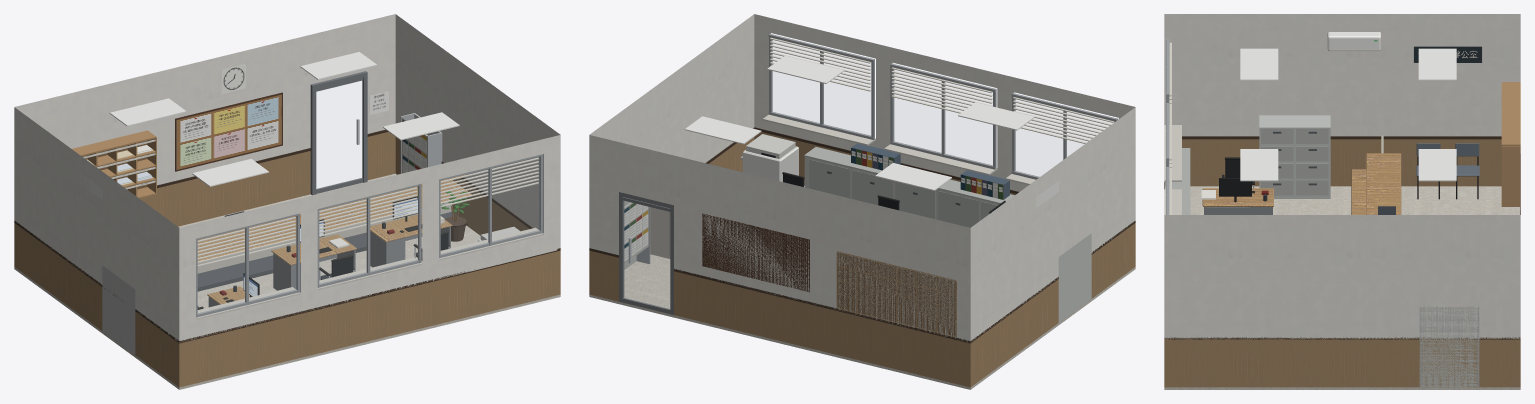
The model's file is linze_office.glb.
The picture shows the model from 3 angles, left to right: view 1: azimuth 30°, elevation 25°; view 2: azimuth 150°, elevation 25°; view 3: azimuth 270°, elevation 25°; orthographic projection. The views are drawn at different scales.
Parts seen in each view (by area): view 1: WALL_N_wall, WALL_S_glass, WALL_S_wall, WALL_W_wall, WALL_S_wain, WALL_E_wall, linze_office_props, WALL_S_frame, WALL_N_wain, WALL_N_print, WALL_W_wain, linze_office_woodparts (+11 smaller); view 2: WALL_N_wall, WALL_W_wall, WALL_N_wain, WALL_S_glass, WALL_E_wall, WALL_S_wall, WALL_S_frame, linze_office_props, WALL_S_cab, WALL_N_pigeonvc, WALL_N_trim, WALL_W_wain (+10 smaller); view 3: WALL_E_wall, WALL_W_wall, WALL_E_wain, linze_office_props, WALL_W_wain, linze_office_floorm, WALL_W_filecab, WALL_E_rack, linze_office_woodparts, WALL_N_pigeonvc, WALL_W_trim, WALL_S_frame (+3 smaller).
Boxes of the visible parts, bbox=[...] form: WALL_N_wall: bbox=[14, 14, 395, 185]; WALL_S_glass: bbox=[198, 157, 539, 313]; WALL_S_wall: bbox=[179, 135, 560, 342]; WALL_W_wall: bbox=[14, 107, 179, 340]; WALL_S_wain: bbox=[179, 250, 560, 387]; WALL_E_wall: bbox=[395, 14, 560, 233]; linze_office_props: bbox=[109, 52, 519, 309]; WALL_S_frame: bbox=[196, 154, 543, 319]; WALL_N_wain: bbox=[140, 132, 395, 226]; WALL_N_print: bbox=[83, 63, 388, 189]; WALL_W_wain: bbox=[14, 223, 179, 386]; linze_office_woodparts: bbox=[197, 174, 471, 304]; WALL_N_wall: bbox=[589, 135, 970, 341]; WALL_W_wall: bbox=[970, 107, 1135, 340]; WALL_N_wain: bbox=[589, 250, 970, 387]; WALL_S_glass: bbox=[772, 40, 1111, 176]; WALL_E_wall: bbox=[589, 14, 754, 162]; WALL_S_wall: bbox=[754, 14, 1135, 191]; WALL_S_frame: bbox=[762, 33, 1118, 185]; linze_office_props: bbox=[650, 56, 1034, 258]; WALL_S_cab: bbox=[804, 143, 1014, 227]; WALL_N_pigeonvc: bbox=[836, 251, 956, 337]; WALL_N_trim: bbox=[589, 213, 970, 343]; WALL_W_wain: bbox=[970, 223, 1135, 386]; WALL_E_wall: bbox=[1164, 215, 1520, 338]; WALL_W_wall: bbox=[1164, 14, 1520, 136]; WALL_E_wain: bbox=[1164, 338, 1520, 387]; linze_office_props: bbox=[1201, 48, 1479, 214]; WALL_W_wain: bbox=[1165, 139, 1501, 186]; linze_office_floorm: bbox=[1164, 186, 1520, 389]; WALL_W_filecab: bbox=[1259, 115, 1330, 198]; WALL_E_rack: bbox=[1419, 306, 1479, 387]; linze_office_woodparts: bbox=[1202, 153, 1401, 214]; WALL_N_pigeonvc: bbox=[1501, 82, 1520, 206]; WALL_W_trim: bbox=[1182, 32, 1501, 139]; WALL_S_frame: bbox=[1164, 39, 1181, 214].
Bounding box in the file's own units: 8 × 3.25 × 6.
Materials: 13 (7 with a texture image).
